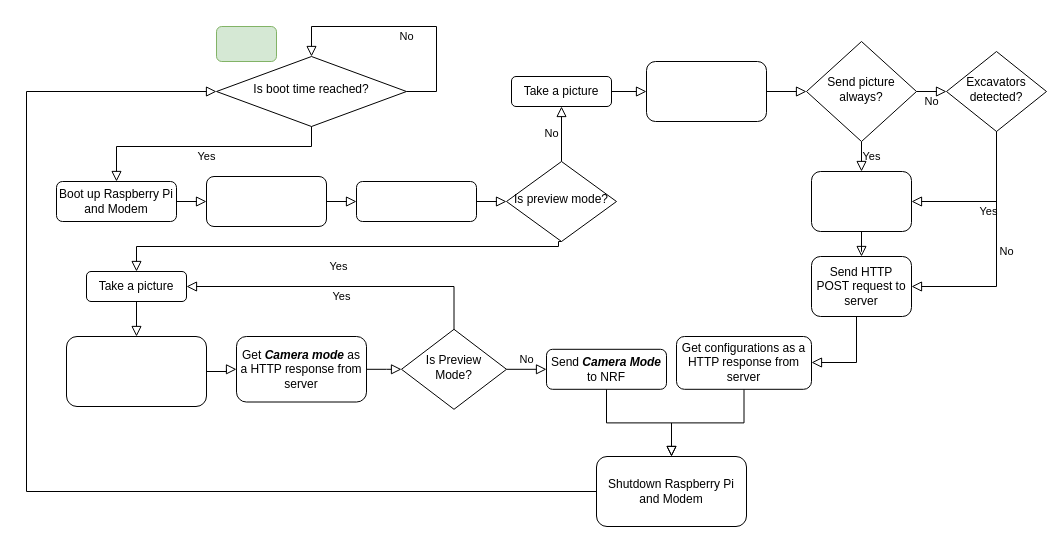
This 1064x544 diagram has some shape labels left out. Here are the shapes that lost their labels. From the top down, the centre of each, then its label:
(x=246, y=44): Start
(x=706, y=91): Deep learning inference for detecting excavators
(x=266, y=201): Setup GPIO and serial port from Raspberry Pi
(x=416, y=201): Read Camera mode from NRF
(x=861, y=201): Add picture to HTTP POST request form
(x=136, y=371): Send picture through HTTP POST request to server
